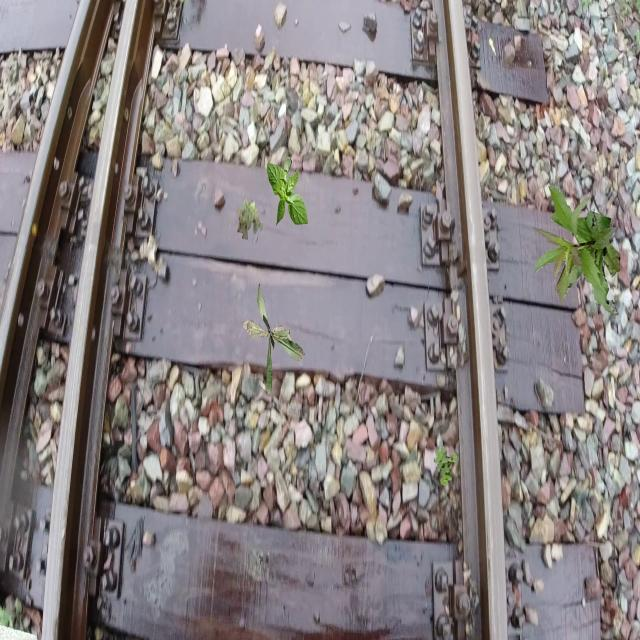Plant: (532, 186, 620, 316), (242, 283, 306, 395), (267, 157, 308, 228), (237, 197, 263, 240), (434, 446, 458, 487)
